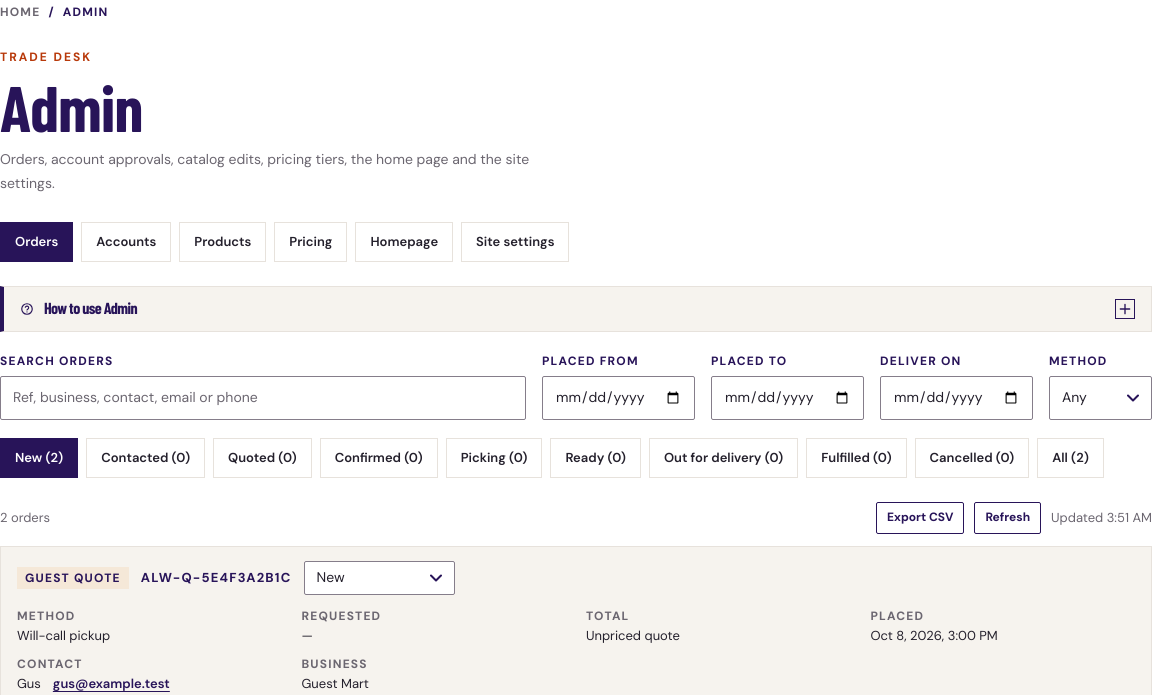
Test: Admin orders with the quote workflow › shows a refused status change (the plain update, without the October 2026 function)
Click the button "All (2)": (1070, 458) [1037,438,1104,478]
(page scrolled)
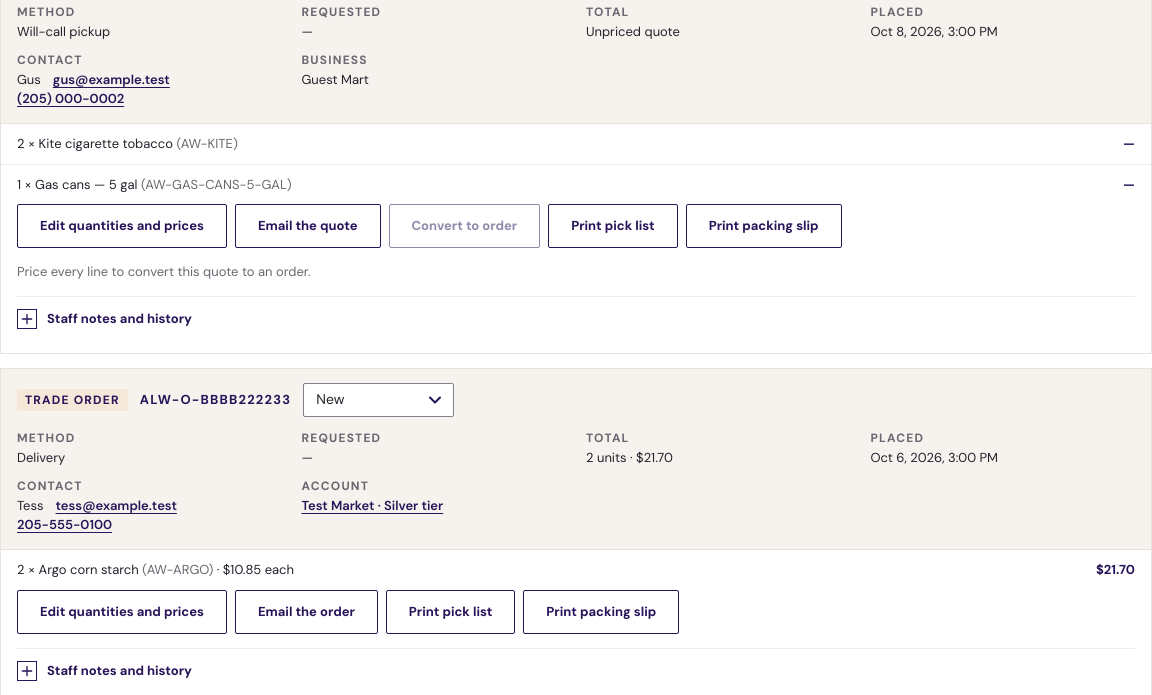
Select "Picking" in the dropdown named "Status for ALW-O-BBBB222233": (379, 400) [303,383,454,417]
(page scrolled)
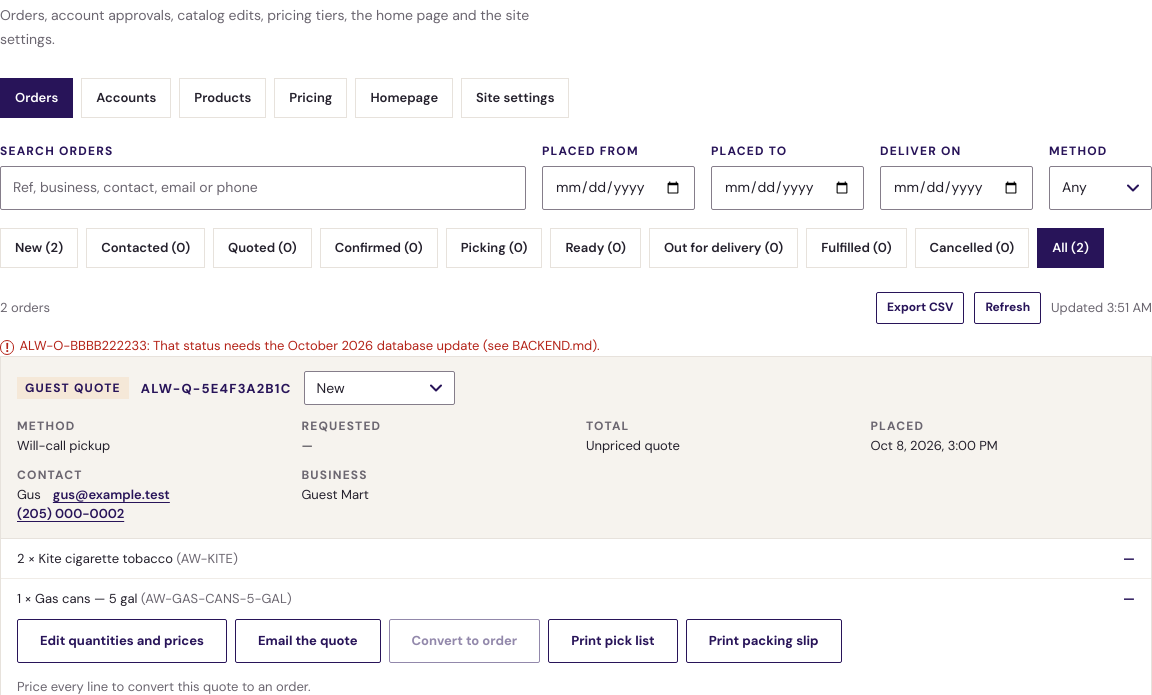
Check: the message shows "ALW-O-BBBB222233: That status needs the October 2026 database update (see BACKEND.md).", box [20,337,600,354]
